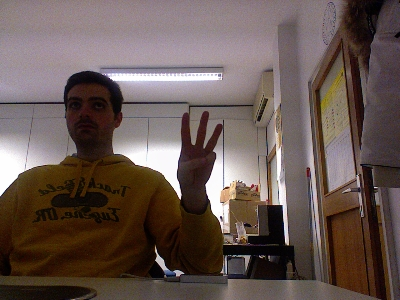三分: (176, 110, 223, 189)
